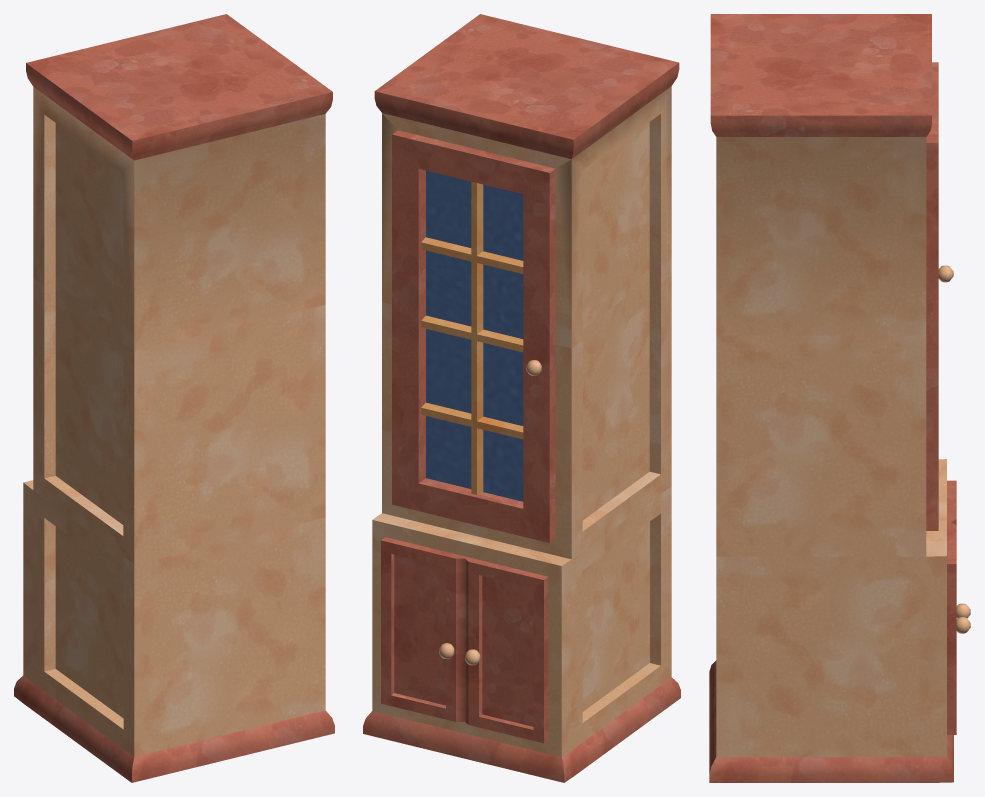
Rendered from SM_Furniture_High.fbx.
3 views of the same model, side by side, from view 1: azimuth 30°, elevation 25°; view 2: azimuth 150°, elevation 25°; view 3: azimuth 270°, elevation 25° (orthographic). The views are drawn at different scales.
Parts seen in each view (by area): view 1: SM_Furniture_High; view 2: SM_Furniture_High; view 3: SM_Furniture_High.
Part boxes in pixels (left/top/right/bottom): SM_Furniture_High: left=14, top=14, right=334, bottom=782; SM_Furniture_High: left=363, top=14, right=680, bottom=782; SM_Furniture_High: left=709, top=14, right=970, bottom=782.
Bounding box in the file's own units: 99.39 × 300 × 107.
